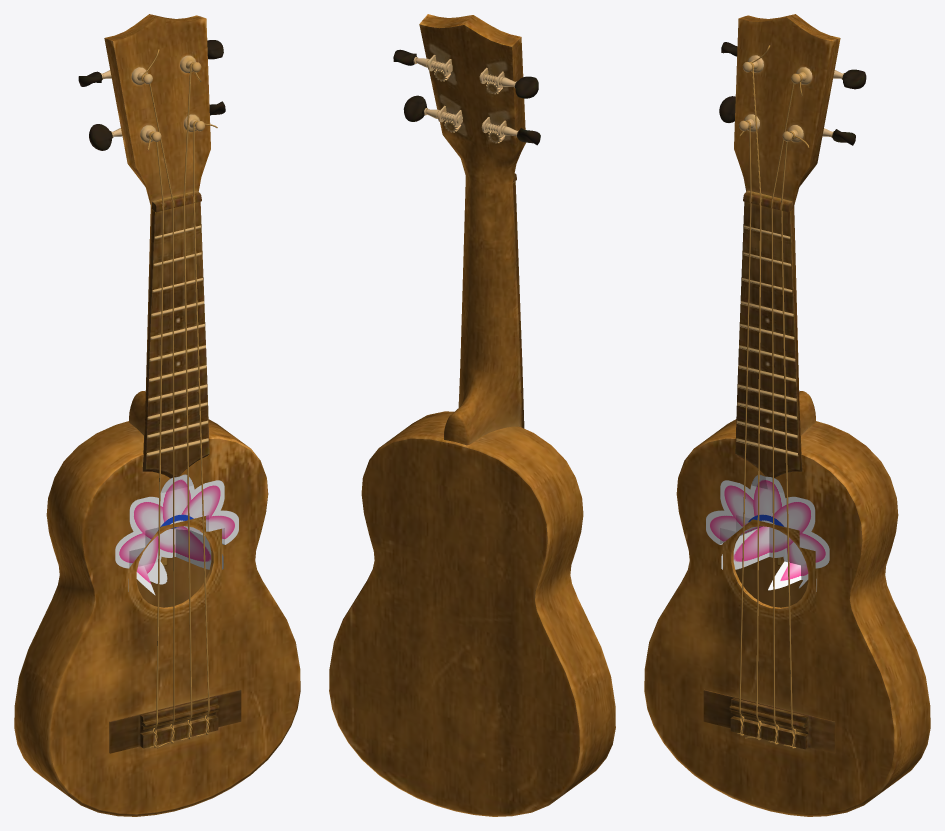
The model's file is nyb_fame_ukulele.glb.
3 views of the same model, side by side, from view 1: azimuth 30°, elevation 25°; view 2: azimuth 150°, elevation 25°; view 3: azimuth 330°, elevation 25° (orthographic).
Parts seen in each view (by area): view 1: Ukulele_01, stk_eyeflower_die.png; view 2: Ukulele_01; view 3: Ukulele_01, stk_eyeflower_die.png.
Boxes of the visible parts, bbox=[...] form: Ukulele_01: bbox=[14, 14, 300, 816]; stk_eyeflower_die.png: bbox=[115, 474, 238, 595]; Ukulele_01: bbox=[329, 14, 615, 816]; Ukulele_01: bbox=[644, 14, 930, 816]; stk_eyeflower_die.png: bbox=[706, 475, 829, 591].
Bounding box in the file's own units: 0.1779 × 0.527 × 0.0508.
Materials: 2 (2 with a texture image).
